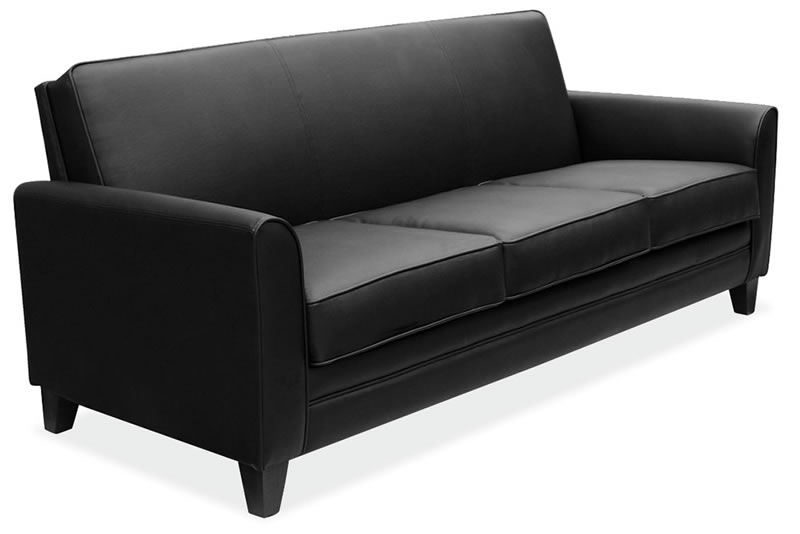chairs: (15, 10, 777, 519)
